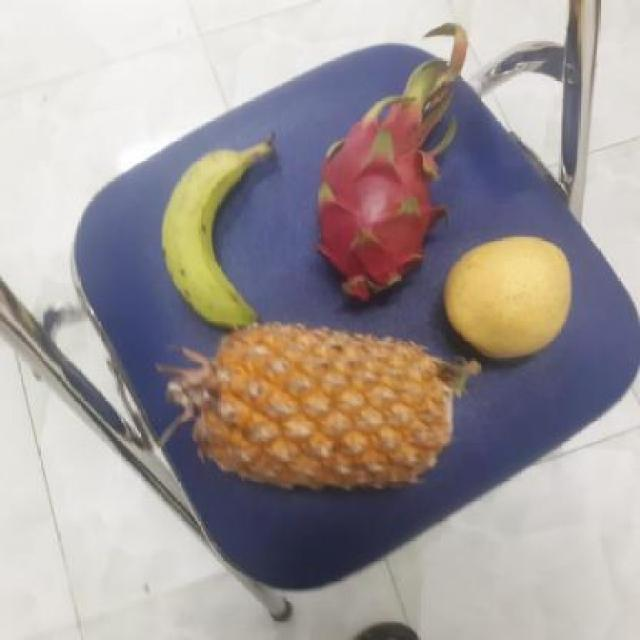banana: (158, 142, 272, 324)
dragon fruit: (306, 116, 448, 296)
pear: (440, 236, 574, 358)
pineapple: (174, 319, 460, 495)
